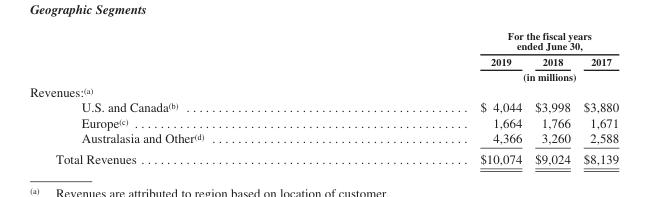table: (29, 29, 618, 165)
table column: (29, 29, 341, 165), (341, 29, 527, 165), (527, 29, 576, 165), (576, 29, 618, 165)
table column header: (29, 29, 618, 83)
table projected row header: (29, 83, 618, 99)
table row: (29, 29, 618, 53), (29, 130, 618, 148), (29, 148, 618, 165), (29, 83, 618, 99), (29, 114, 618, 130), (29, 53, 618, 68), (29, 68, 618, 83), (29, 99, 618, 114)
table spanning cell: (341, 29, 618, 53), (341, 68, 618, 83)
